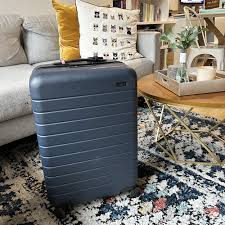suitcase: (28, 54, 142, 205)
